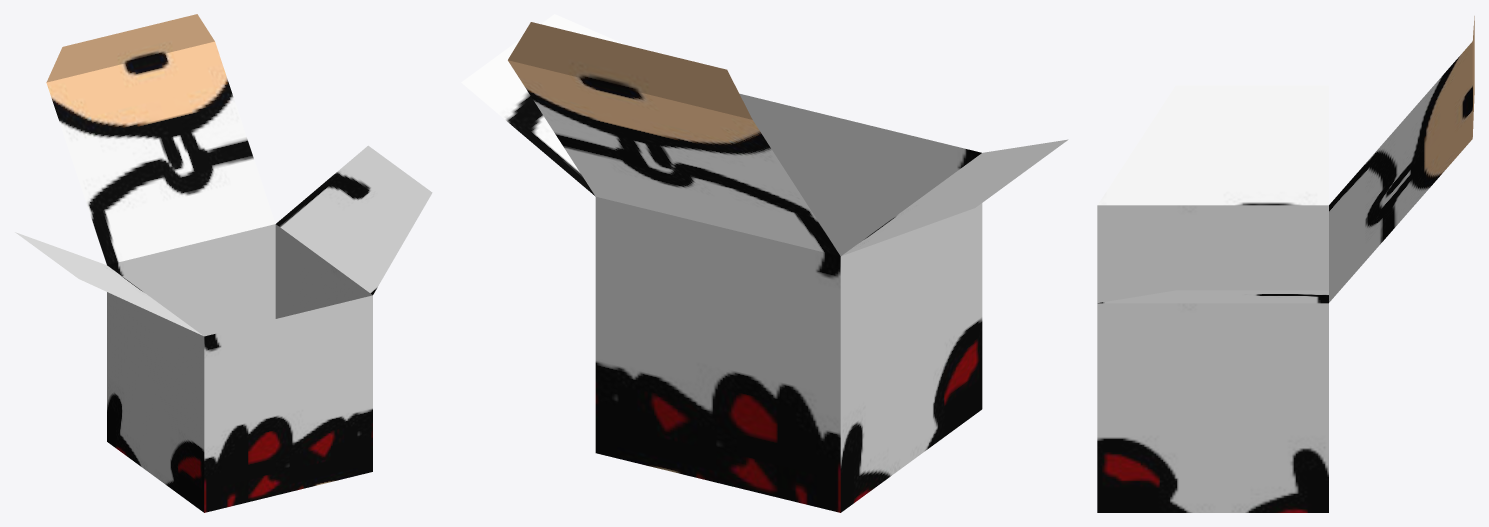
Rendered from sandbox.glb.
The picture shows the model from 3 angles, left to right: view 1: azimuth 30°, elevation 25°; view 2: azimuth 150°, elevation 25°; view 3: azimuth 270°, elevation 25°; orthographic projection. The views are drawn at different scales.
Parts seen in each view (by area): view 1: Cube; view 2: Cube; view 3: Cube.
Part boxes in pixels (x1,y1,x2,y2): Cube: (15, 14, 432, 512); Cube: (461, 14, 1068, 512); Cube: (1097, 16, 1474, 512).
Size of the model in its own units: 1.92 by 1.79 by 1.49.
1 material, 1 textured.
